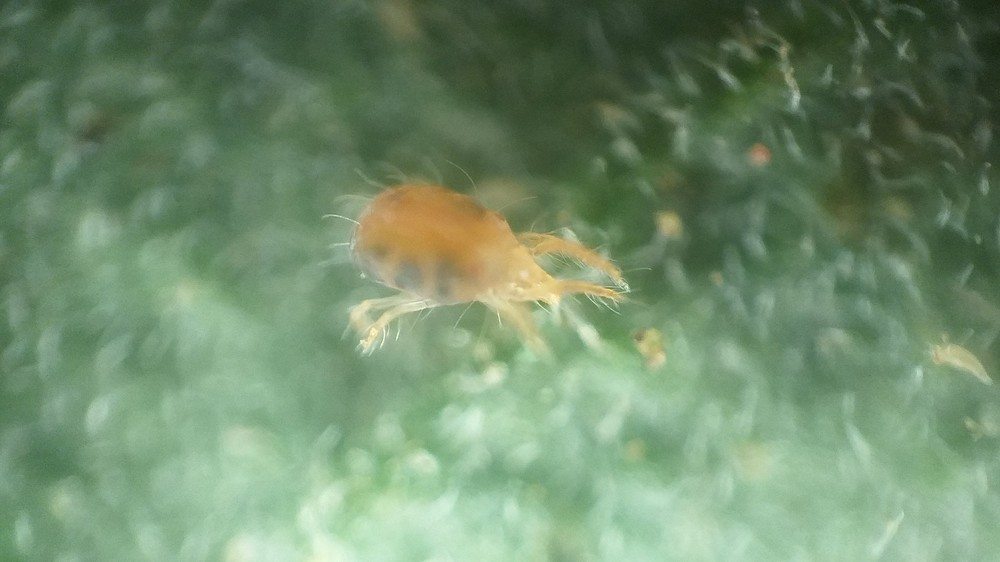Aracnido Rojo: (281, 130, 658, 403)
